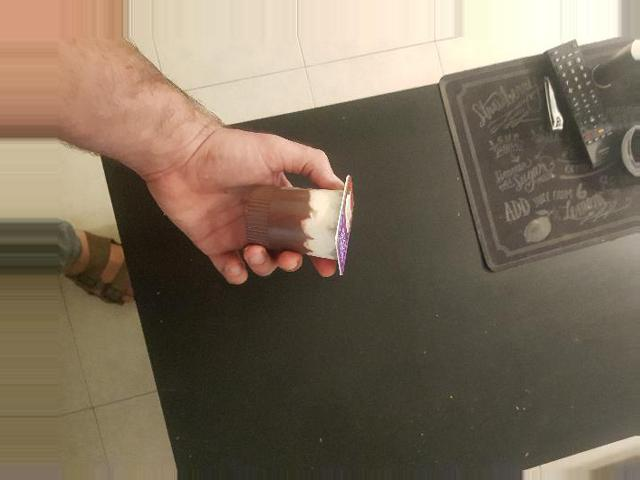milky: (341, 309, 431, 428)
